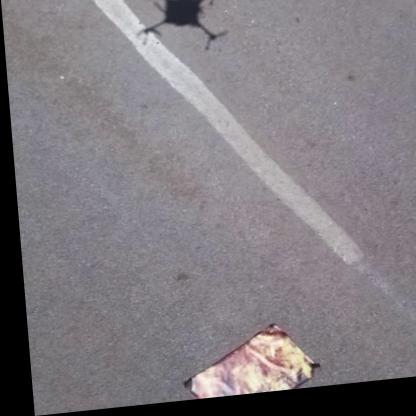fire-poster: (172, 324, 316, 404)
